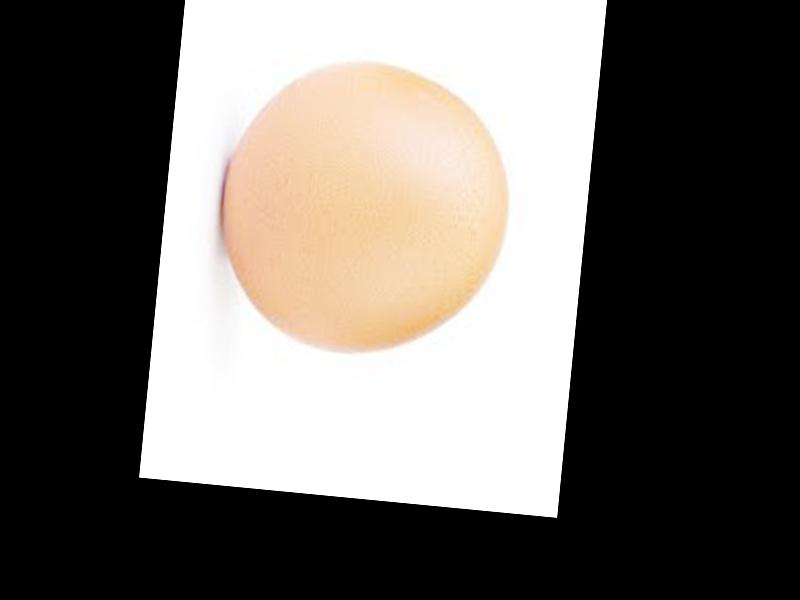Eggs: (211, 51, 517, 365)
